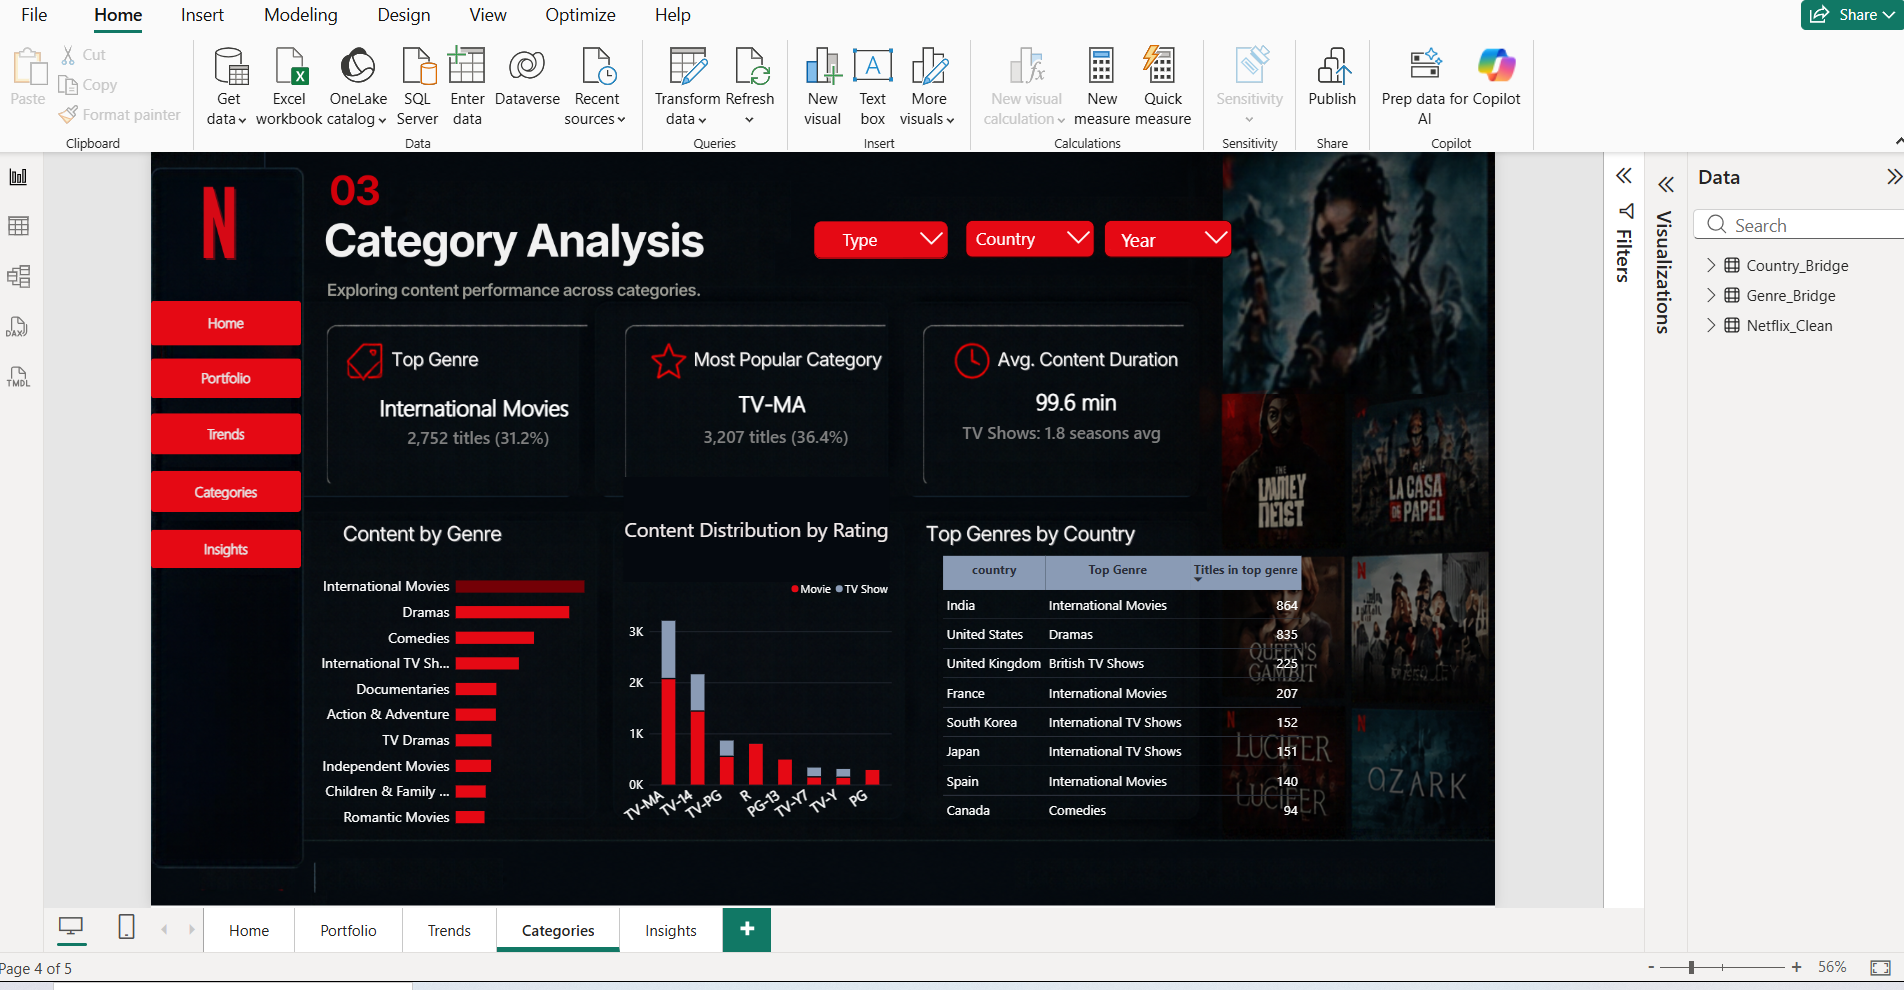

The dashboard page shown, as its layout file describes it:
{"tool":"powerbi","page":{"name":"Categories","canvas":[1920,1080],"ordinal":3},"visuals":[{"type":"actionButton","box":[0,212.5,214.3,64.3],"z":0},{"type":"cardVisual","fields":{"Data":["Genre_Bridge.Top Genre"]},"box":[310,285,319,156.4],"z":1000},{"type":"slicer","fields":{"Values":["Netflix_Clean.type"]},"box":[943.5,93.5,200,69.6],"z":2000},{"type":"shape","box":[952.2,108.7,121.7,41.3],"z":3000},{"type":"slicer","fields":{"Values":["Country_Bridge.country"]},"box":[1158.8,92.6,199.7,70],"z":4000},{"type":"shape","box":[1158.8,107,115.3,43.2],"z":5000},{"type":"slicer","fields":{"Values":["Netflix_Clean.release_year"]},"box":[1357.5,92.5,192.5,70],"z":6000},{"type":"shape","box":[1364.7,107,92.6,41.2],"z":7000},{"type":"cardVisual","fields":{"Data":["Genre_Bridge.Top Genre Detail"]},"box":[350,340,302.5,137.5],"z":8000},{"type":"cardVisual","fields":{"Data":["Genre_Bridge.Top Category"]},"box":[822.5,280,319,156.4],"z":9000},{"type":"cardVisual","fields":{"Data":["Genre_Bridge.Top Category Detail"]},"box":[772.5,337.5,302.5,137.5],"z":10000},{"type":"cardVisual","fields":{"Data":["Netflix_Clean.Avg Movie Duration"]},"box":[1247.5,277.5,319,156.4],"z":11000},{"type":"cardVisual","fields":{"Data":["Netflix_Clean.Avg Duration Detail"]},"box":[1142.5,332.5,382.5,137.5],"z":12000},{"type":"clusteredBarChart","fields":{"Category":["Genre_Bridge.genre"],"Y":["Genre_Bridge.Genre Titles"]},"box":[215,575,437.5,415],"z":13000},{"type":"columnChart","fields":{"Category":["Netflix_Clean.rating"],"Series":["Netflix_Clean.type"],"Y":["Netflix_Clean.Total_Titles"]},"box":[652.5,592.5,422.5,397.5],"z":14000},{"type":"textbox","box":[0,13,214,150],"z":15000},{"type":"shape","title":"Content Distribution by Ratin","box":[675,465,380,150],"z":16000},{"type":"tableEx","fields":{"Values":["Country_Bridge.country","Genre_Bridge.Top Genre","Genre_Bridge.Top Genre Count"]},"box":[1110,562.5,550,427.5],"z":17000},{"type":"actionButton","box":[0,294.3,214.3,57.1],"z":18000},{"type":"actionButton","box":[0,372.6,214.3,58.9],"z":19000},{"type":"actionButton","box":[0,454.9,214.3,58.9],"z":20000},{"type":"actionButton","box":[0,539.3,214.3,55.4],"z":21000}]}

Visuals, with their boxes on the page's 1920x1080 design canvas (x1, y1, x2, y2). These are canvas units, not pixel positions in the 1904x990 screenshot, which may show the page scaled, cropped or inside an application window:
actionButton: Rect(0, 212, 214, 277)
cardVisual - Genre_Bridge.Top Genre: Rect(310, 285, 629, 441)
slicer - Netflix_Clean.type: Rect(944, 94, 1144, 163)
shape: Rect(952, 109, 1074, 150)
slicer - Country_Bridge.country: Rect(1159, 93, 1358, 163)
shape: Rect(1159, 107, 1274, 150)
slicer - Netflix_Clean.release_year: Rect(1358, 92, 1550, 162)
shape: Rect(1365, 107, 1457, 148)
cardVisual - Genre_Bridge.Top Genre Detail: Rect(350, 340, 652, 478)
cardVisual - Genre_Bridge.Top Category: Rect(822, 280, 1142, 436)
cardVisual - Genre_Bridge.Top Category Detail: Rect(772, 338, 1075, 475)
cardVisual - Netflix_Clean.Avg Movie Duration: Rect(1248, 278, 1566, 434)
cardVisual - Netflix_Clean.Avg Duration Detail: Rect(1142, 332, 1525, 470)
clusteredBarChart - Genre_Bridge.genre x Genre_Bridge.Genre Titles: Rect(215, 575, 652, 990)
columnChart - Netflix_Clean.rating x Netflix_Clean.type: Rect(652, 592, 1075, 990)
textbox: Rect(0, 13, 214, 163)
"Content Distribution by Ratin" shape: Rect(675, 465, 1055, 615)
tableEx - Country_Bridge.country x Genre_Bridge.Top Genre: Rect(1110, 562, 1660, 990)
actionButton: Rect(0, 294, 214, 351)
actionButton: Rect(0, 373, 214, 432)
actionButton: Rect(0, 455, 214, 514)
actionButton: Rect(0, 539, 214, 595)
